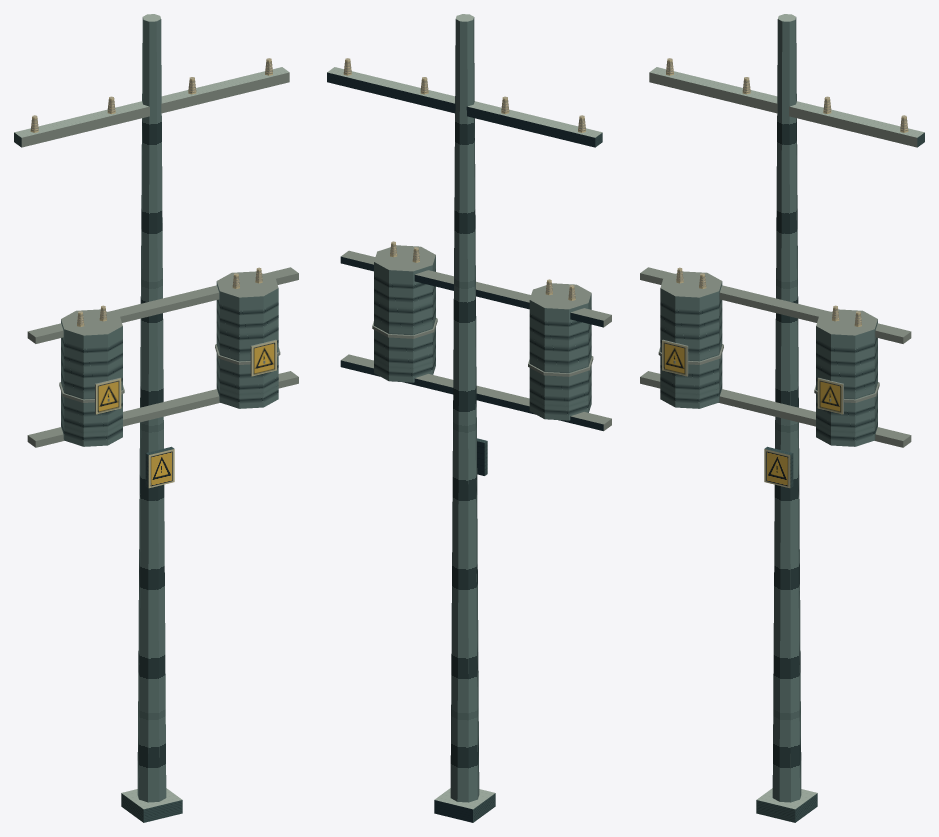
Rendered from transformador_poste_doble.glb.
The picture shows the model from 3 angles, left to right: view 1: azimuth 30°, elevation 25°; view 2: azimuth 150°, elevation 25°; view 3: azimuth 330°, elevation 25°; orthographic projection.
Parts seen in each view (by area): view 1: FH_PROP; view 2: FH_PROP; view 3: FH_PROP.
Boxes of the visible parts, x1,y1,x2,y2 form: FH_PROP: (14, 14, 298, 822); FH_PROP: (327, 14, 611, 822); FH_PROP: (640, 14, 924, 822).
Size of the model in its own units: 2.27 by 6.4 by 0.6743.
Materials: 1 (1 with a texture image).
